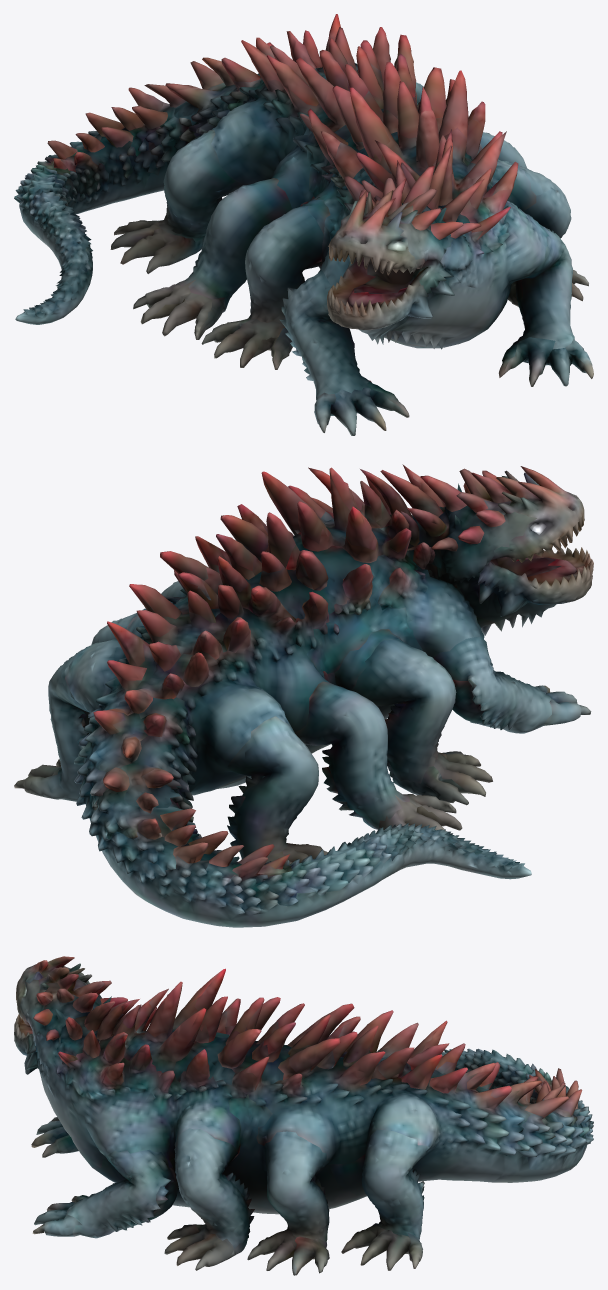
File: MZ4250 - Basilisk_25.glb
3 renders of one model, top to bottom at view 1: azimuth 30°, elevation 25°; view 2: azimuth 150°, elevation 25°; view 3: azimuth 270°, elevation 25°, orthographic. The views are drawn at different scales.
Parts seen in each view (by area): view 1: ORGANIC BASE SPHERE.001; view 2: ORGANIC BASE SPHERE.001; view 3: ORGANIC BASE SPHERE.001.
Part boxes in pixels (x1,y1,x2,y2): ORGANIC BASE SPHERE.001: (14,14,593,435); ORGANIC BASE SPHERE.001: (14,464,593,927); ORGANIC BASE SPHERE.001: (14,956,593,1275).
Bounding box in the file's own units: 52.17 × 26.15 × 62.61.
1 material, 1 textured.
